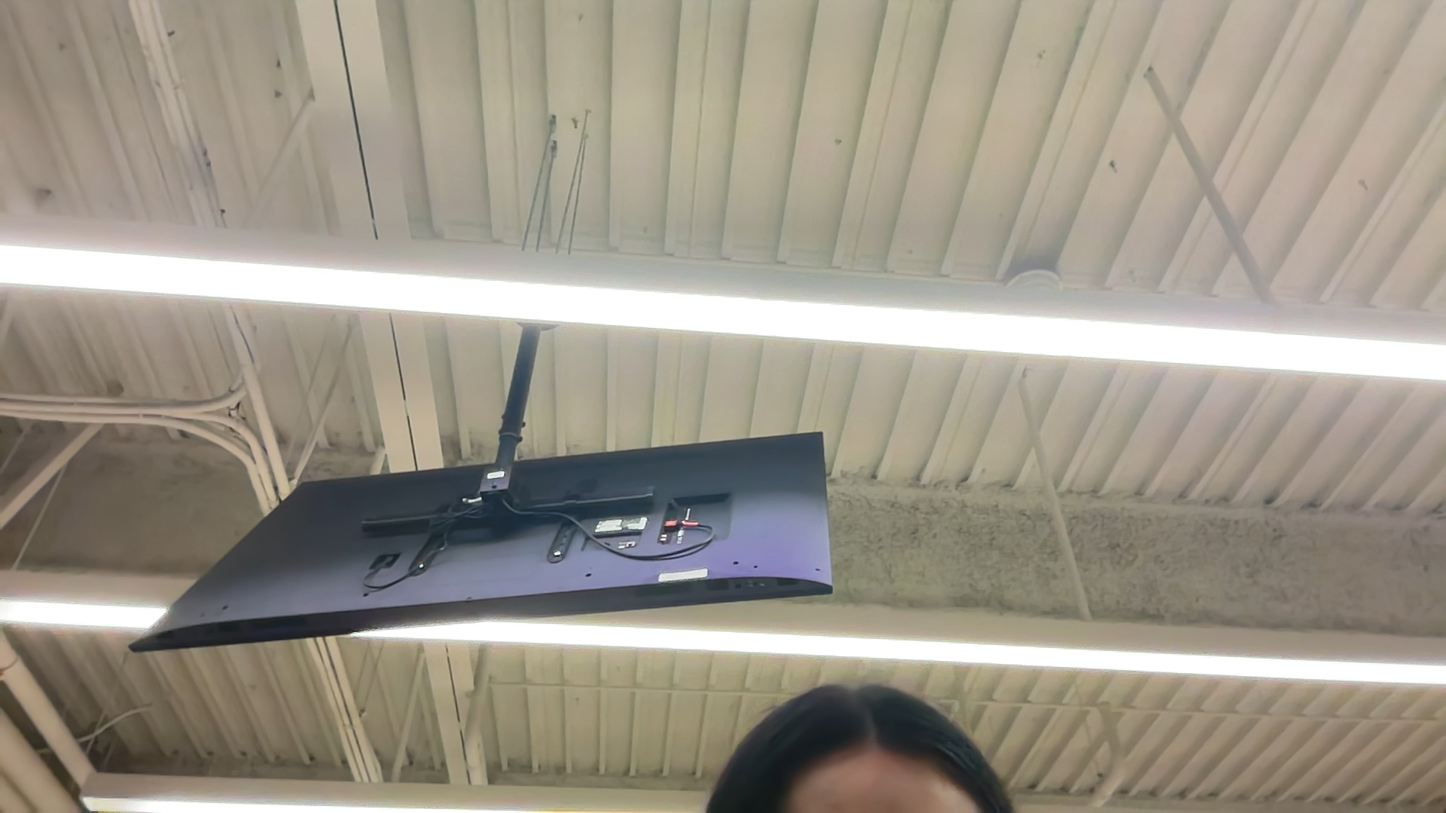Plastic: (0, 278, 1214, 616)
